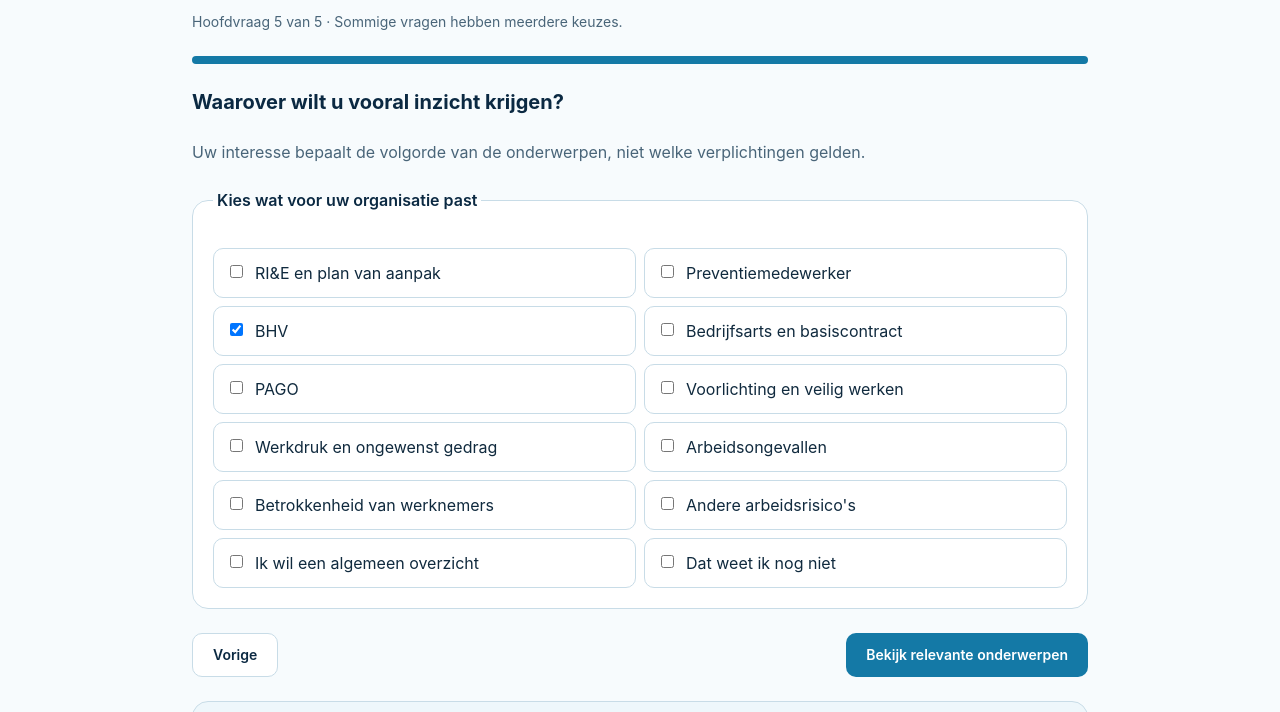
Test case: F3 browsercontract › weigert afronden van een hersteld concept met ontbrekende eerdere antwoorden
Step 1. Click the button "Bekijk relevante onderwerpen" → (967, 655), box x1=846 y1=633 x2=1088 y2=677
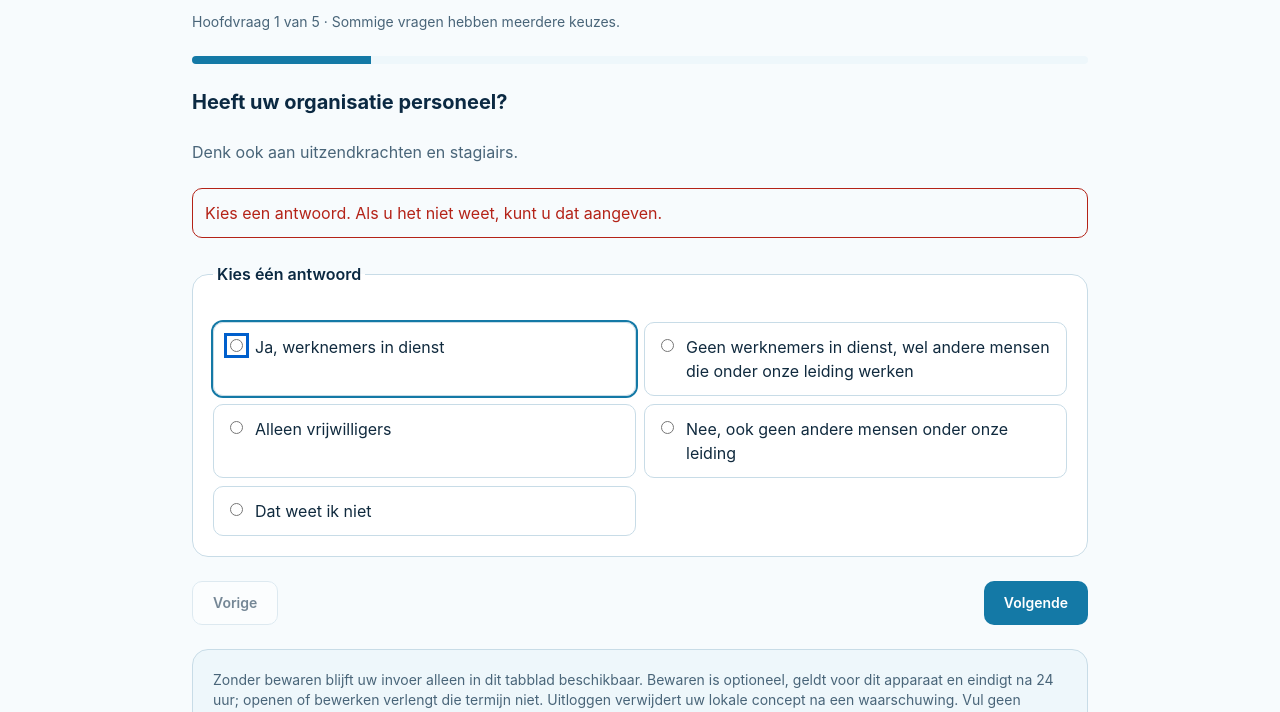
Now the message shows "Kies een antwoord", box x1=205 y1=203 x2=662 y2=223
Now the heading "Heeft uw organisatie personeel?" is shown, box x1=192 y1=90 x2=508 y2=114
